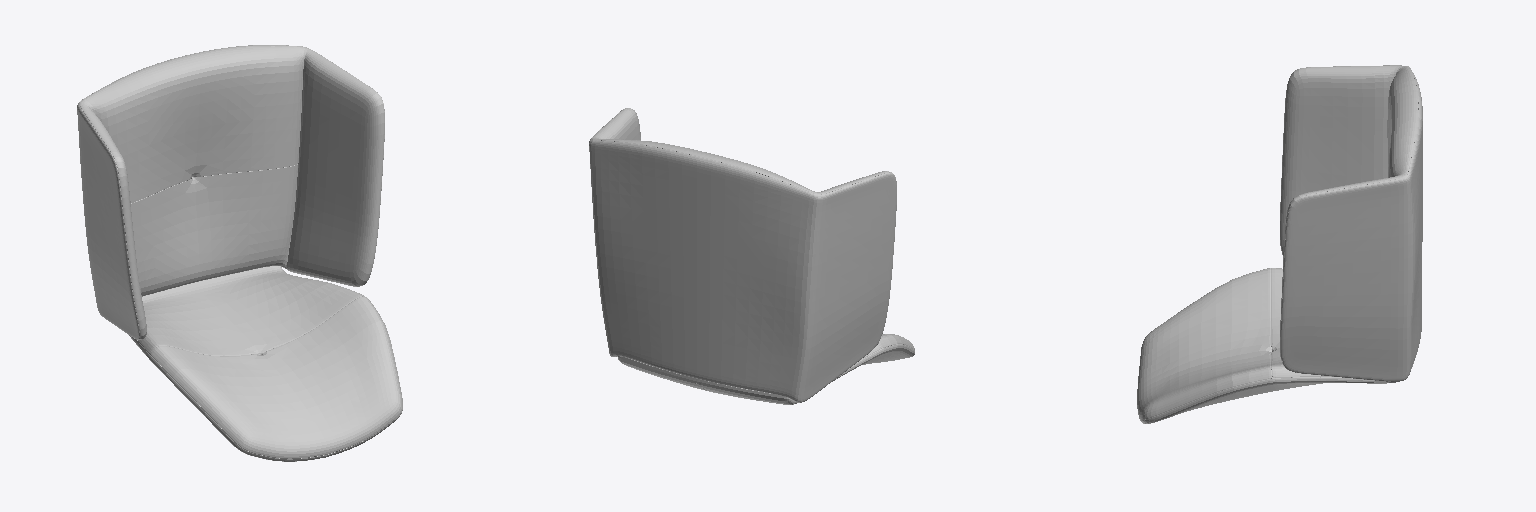
The model's file is chair_top.obj.
3 views of the same model, side by side, from view 1: azimuth 30°, elevation 25°; view 2: azimuth 150°, elevation 25°; view 3: azimuth 270°, elevation 25° (orthographic).
Parts seen in each view (by area): view 1: chair_top; view 2: chair_top; view 3: chair_top.
Boxes of the visible parts, x1=… form: chair_top: x1=77, y1=45, x2=402, y2=461; chair_top: x1=589, y1=108, x2=914, y2=404; chair_top: x1=1137, y1=65, x2=1422, y2=423.
Size of the model in its own units: 211 by 227 by 195.